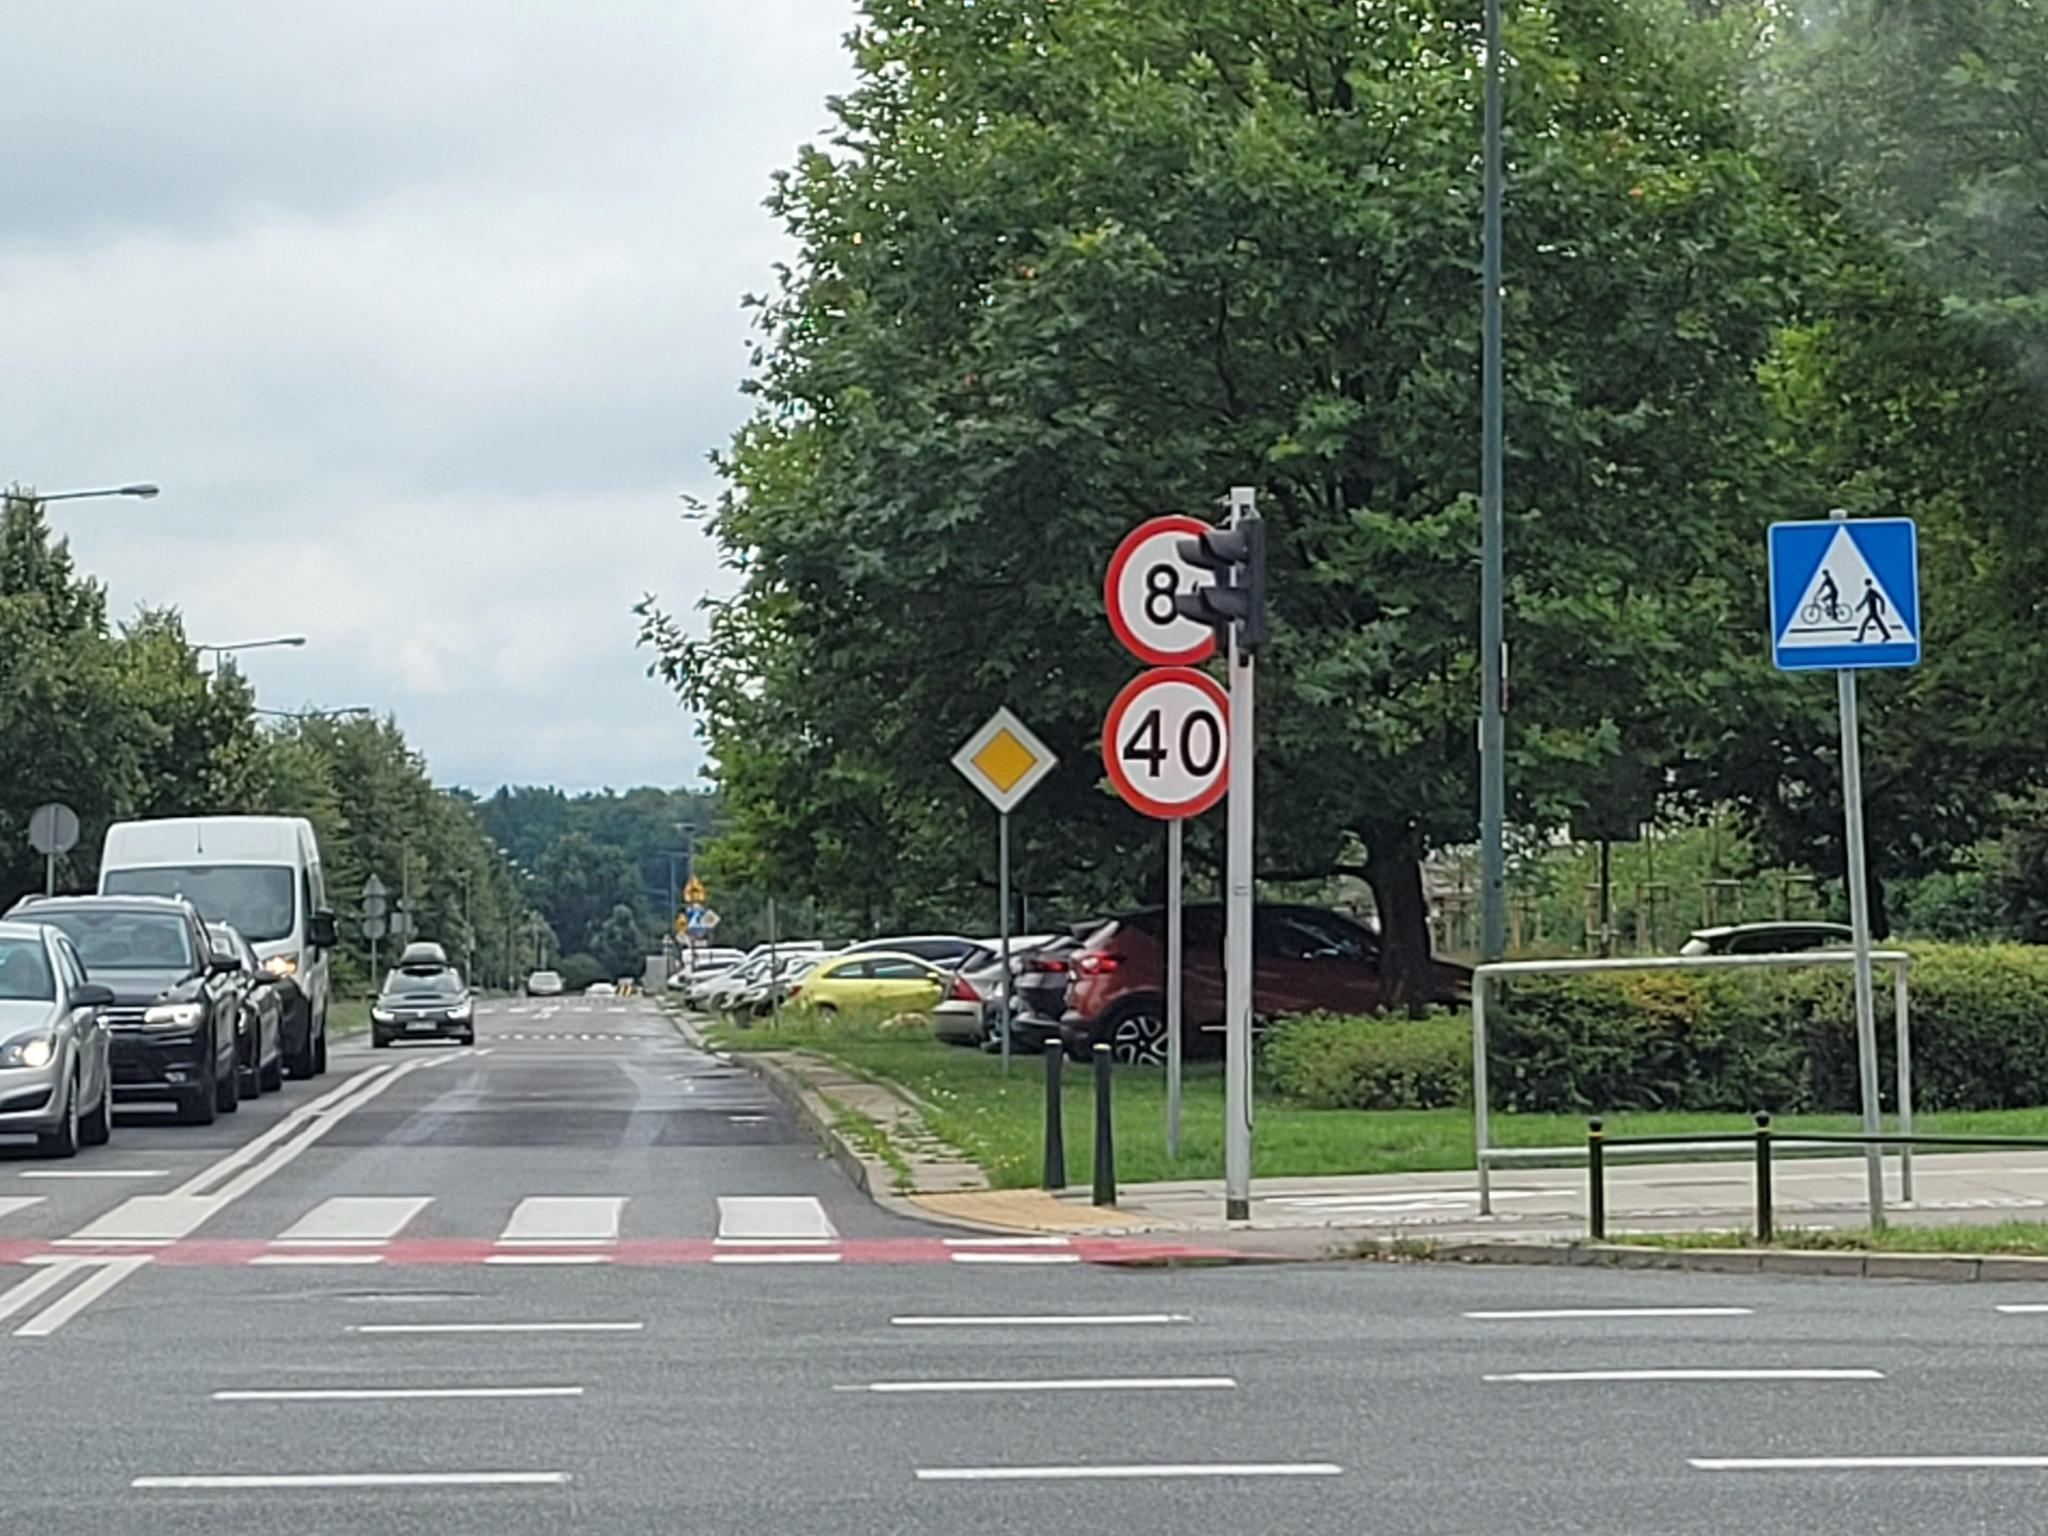information: (1767, 518, 1921, 671), (953, 708, 1059, 815)
prohibitory: (1101, 665, 1229, 820), (1101, 511, 1222, 663)
